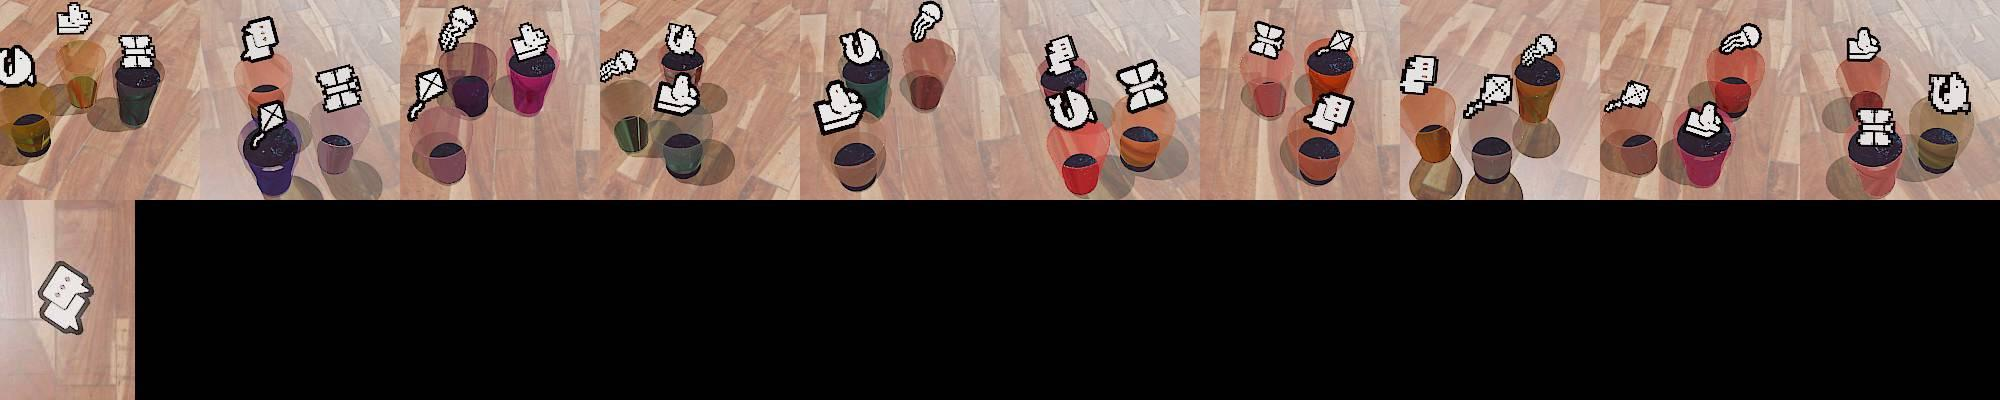icon: (36, 260, 96, 335), (814, 78, 869, 132), (1117, 59, 1170, 115), (1462, 73, 1513, 121), (315, 65, 362, 116), (1045, 88, 1097, 131), (1304, 90, 1353, 135), (653, 71, 700, 117), (408, 68, 449, 118), (437, 5, 480, 54), (239, 17, 281, 64), (1927, 70, 1971, 115), (1853, 104, 1897, 148), (251, 98, 287, 150), (1603, 79, 1652, 115), (839, 27, 881, 68), (510, 20, 551, 61), (0, 45, 37, 89), (1684, 99, 1724, 139), (1249, 19, 1287, 60), (1399, 55, 1437, 96), (1517, 33, 1560, 69), (1043, 32, 1079, 74), (117, 33, 157, 70), (1718, 22, 1761, 55), (663, 20, 699, 57), (55, 1, 93, 36), (598, 50, 638, 83), (911, 1, 943, 42), (1846, 25, 1881, 60), (1316, 29, 1355, 57)
